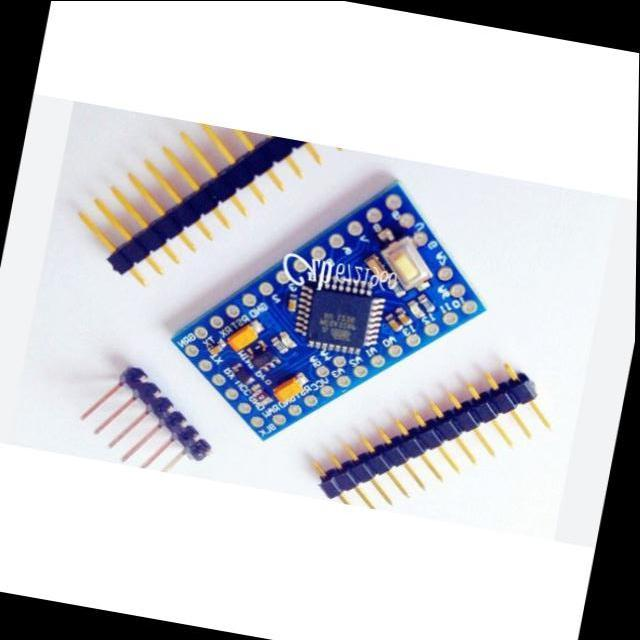Arduino-ProMini: (174, 184, 485, 439)
